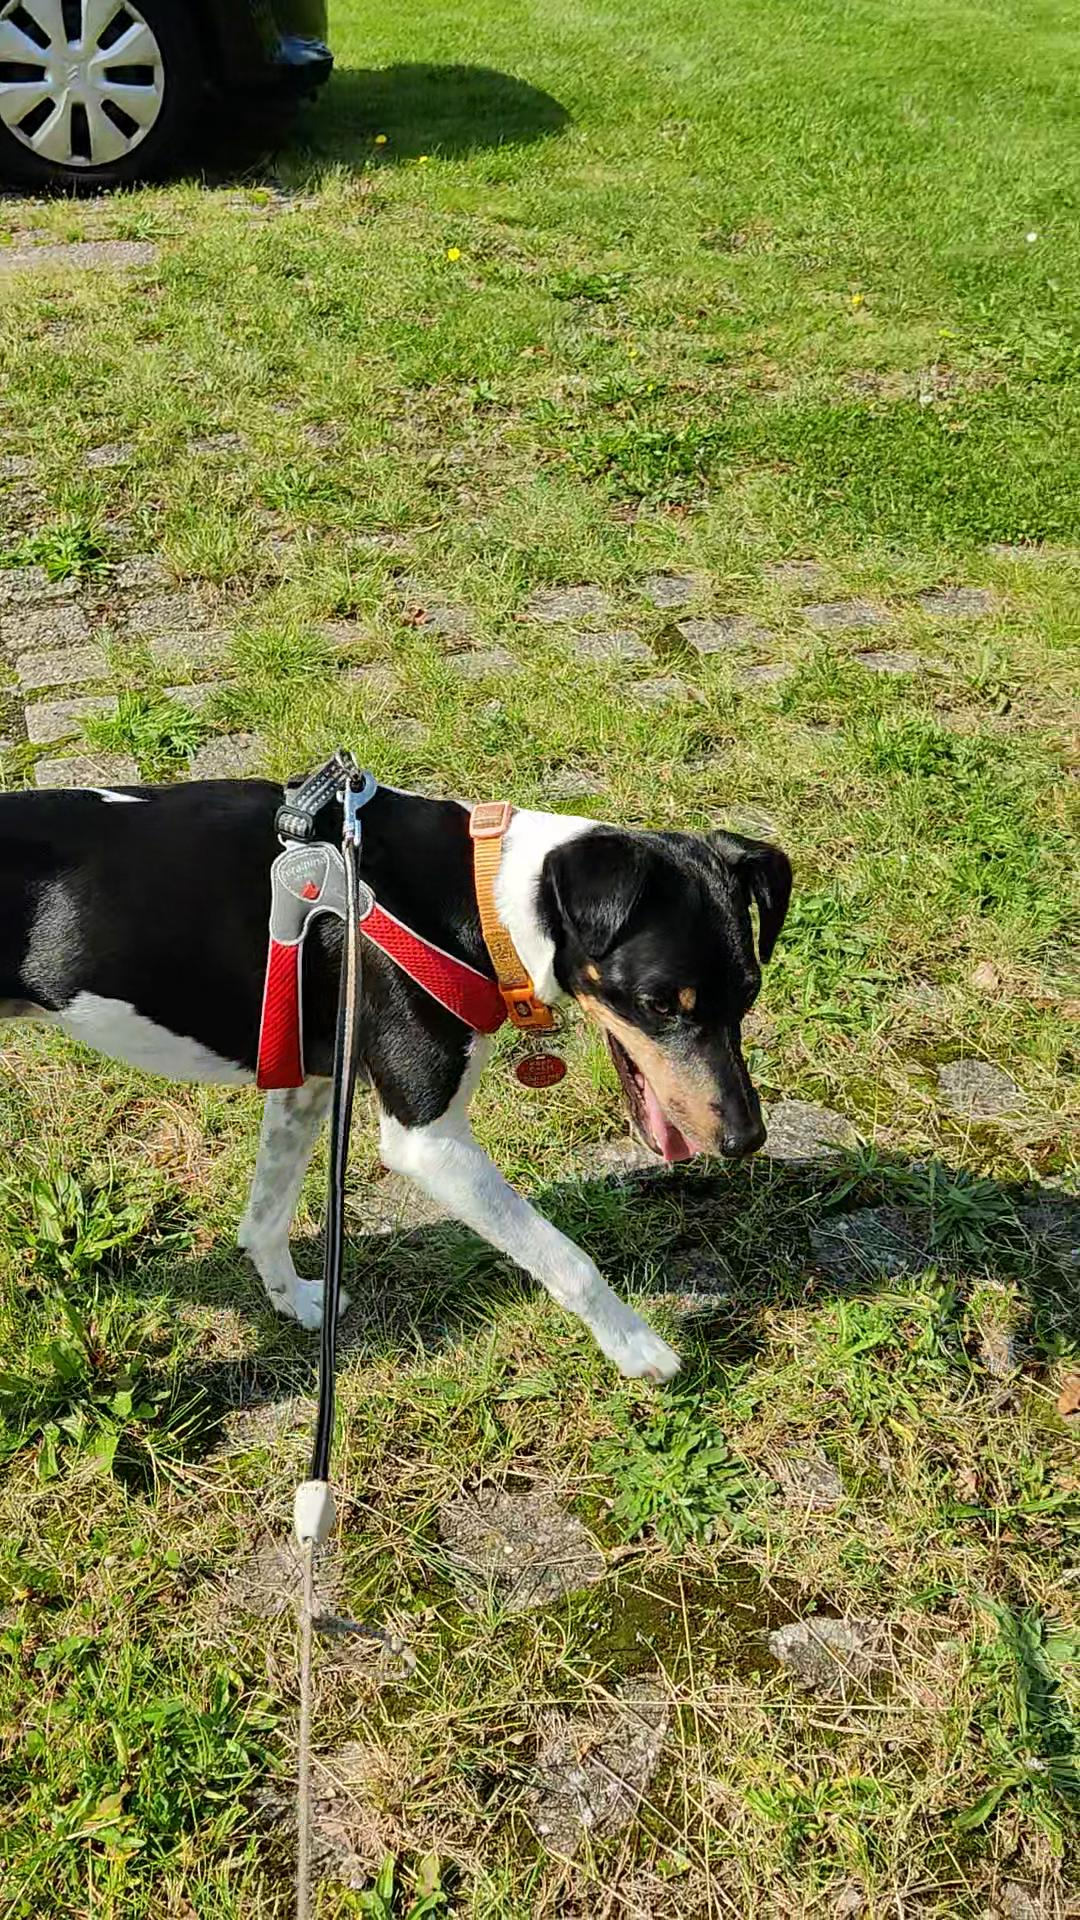Dog: (0, 753, 818, 1394)
